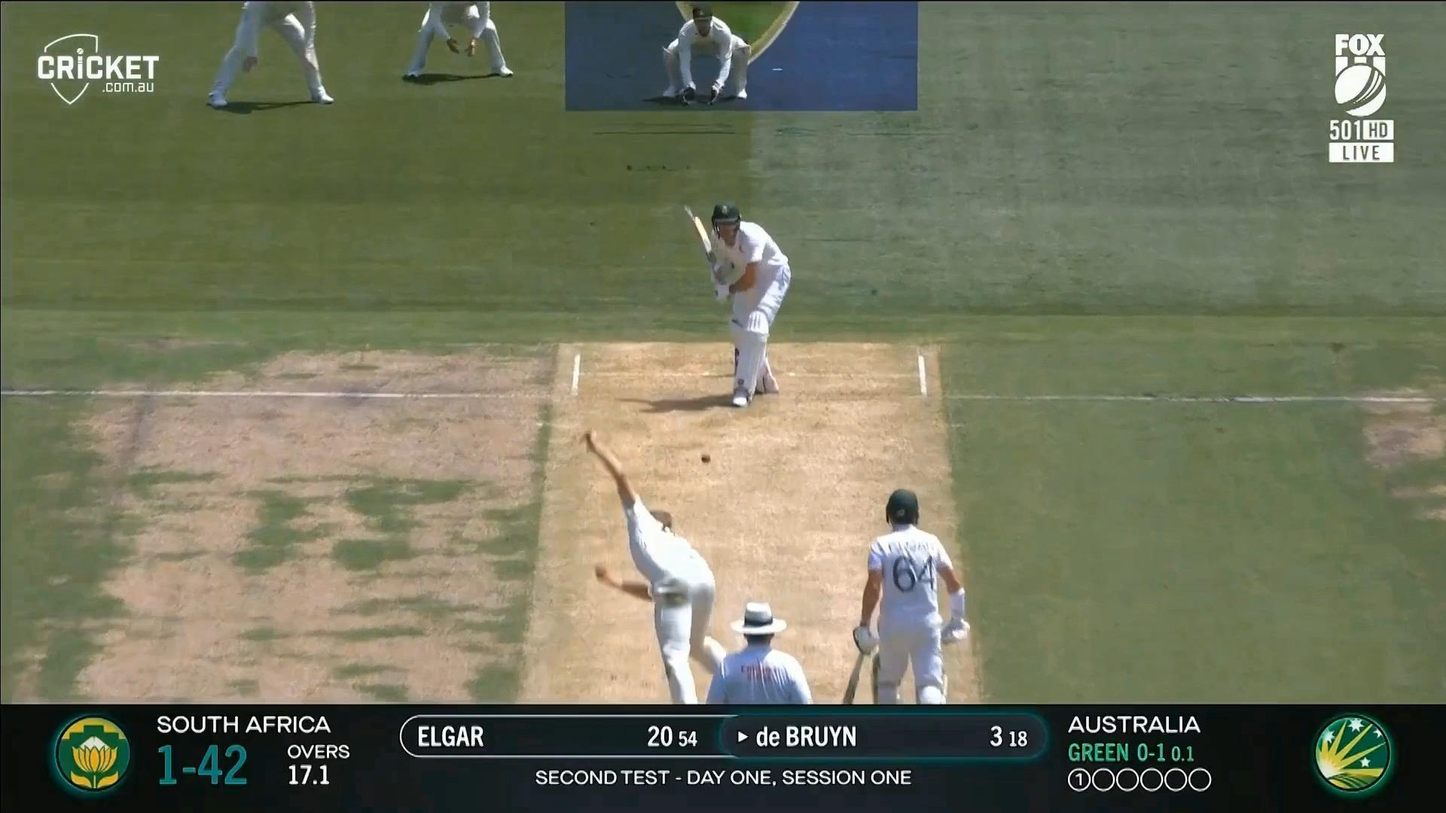BM 1: (683, 200, 792, 408)
BO: (578, 426, 730, 704)
